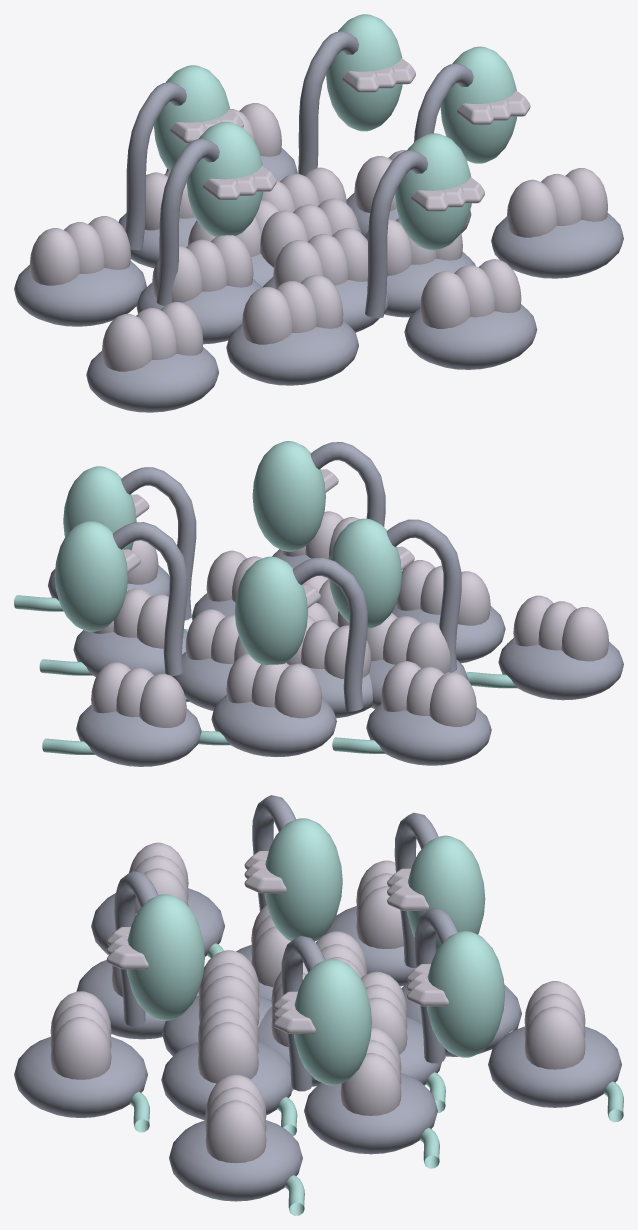
File: bio_acid_mat_23_near.glb
3 views of the same model, one above another, from view 1: azimuth 30°, elevation 25°; view 2: azimuth 150°, elevation 25°; view 3: azimuth 270°, elevation 25° (orthographic). The views are drawn at different scales.
Visible parts, largest first — view 1: Microbial cushion.007, Microbial cushion.012, Microbial cushion.010, Microbial cushion.013, Microbial cushion.009, Pendant spore capsule.003, Pendant spore capsule.002, Pendant spore capsule.004, Pendant spore capsule, Reaction vesicle.030, Reaction vesicle.039, Reaction vesicle.036 (+28 smaller); view 2: Pendant spore capsule.002, Pendant spore capsule.003, Pendant spore capsule.001, Microbial cushion.012, Microbial cushion.006, Microbial cushion.009, Microbial cushion.011, Pendant spore capsule.004, Reaction vesicle.027, Reaction vesicle.036, Reaction vesicle.033, Reaction vesicle.018 (+27 smaller); view 3: Pendant spore capsule.002, Pendant spore capsule.003, Pendant spore capsule, Pendant spore capsule.004, Microbial cushion.010, Microbial cushion.011, Microbial cushion.013, Microbial cushion.008, Pendant spore capsule.001, Reaction vesicle.033, Reaction vesicle.030, Reaction vesicle.039 (+31 smaller).
Part boxes in pixels (x1,y1,x2,y2): Microbial cushion.007: (226, 320, 358, 385); Microbial cushion.012: (86, 347, 218, 412); Microbial cushion.010: (404, 304, 537, 369); Microbial cushion.013: (491, 213, 623, 278); Microbial cushion.009: (14, 261, 146, 326); Pendant spore capsule.003: (326, 14, 402, 131); Pendant spore capsule.002: (395, 133, 471, 250); Pendant spore capsule.004: (186, 122, 263, 236); Pendant spore capsule: (440, 46, 516, 163); Reaction vesicle.030: (420, 259, 521, 328); Reaction vesicle.039: (507, 168, 607, 237); Reaction vesicle.036: (102, 302, 203, 371); Pendant spore capsule.002: (252, 441, 325, 551); Pendant spore capsule.003: (54, 521, 127, 631); Pendant spore capsule.001: (234, 556, 307, 664); Microbial cushion.012: (498, 638, 623, 700); Microbial cushion.006: (211, 695, 336, 756); Microbial cushion.009: (366, 703, 491, 765); Microbial cushion.011: (76, 705, 201, 766); Pendant spore capsule.004: (329, 518, 401, 628); Reaction vesicle.027: (381, 661, 476, 726); Reaction vesicle.036: (513, 595, 608, 661); Reaction vesicle.033: (91, 662, 186, 727); Reaction vesicle.018: (226, 653, 321, 718); Pendant spore capsule.002: (126, 894, 204, 1020); Pendant spore capsule.003: (427, 931, 504, 1057); Pendant spore capsule: (294, 958, 371, 1085); Pendant spore capsule.004: (264, 818, 342, 941); Microbial cushion.010: (14, 1036, 147, 1117); Microbial cushion.011: (488, 1026, 621, 1107); Microbial cushion.013: (169, 1120, 302, 1201); Microbial cushion.008: (304, 1073, 437, 1154); Pendant spore capsule.001: (407, 835, 485, 952); Reaction vesicle.033: (524, 981, 585, 1069); Reaction vesicle.030: (50, 991, 111, 1079); Reaction vesicle.039: (205, 1074, 266, 1163).
Size of the model in its own units: 2.33 by 0.7645 by 2.
